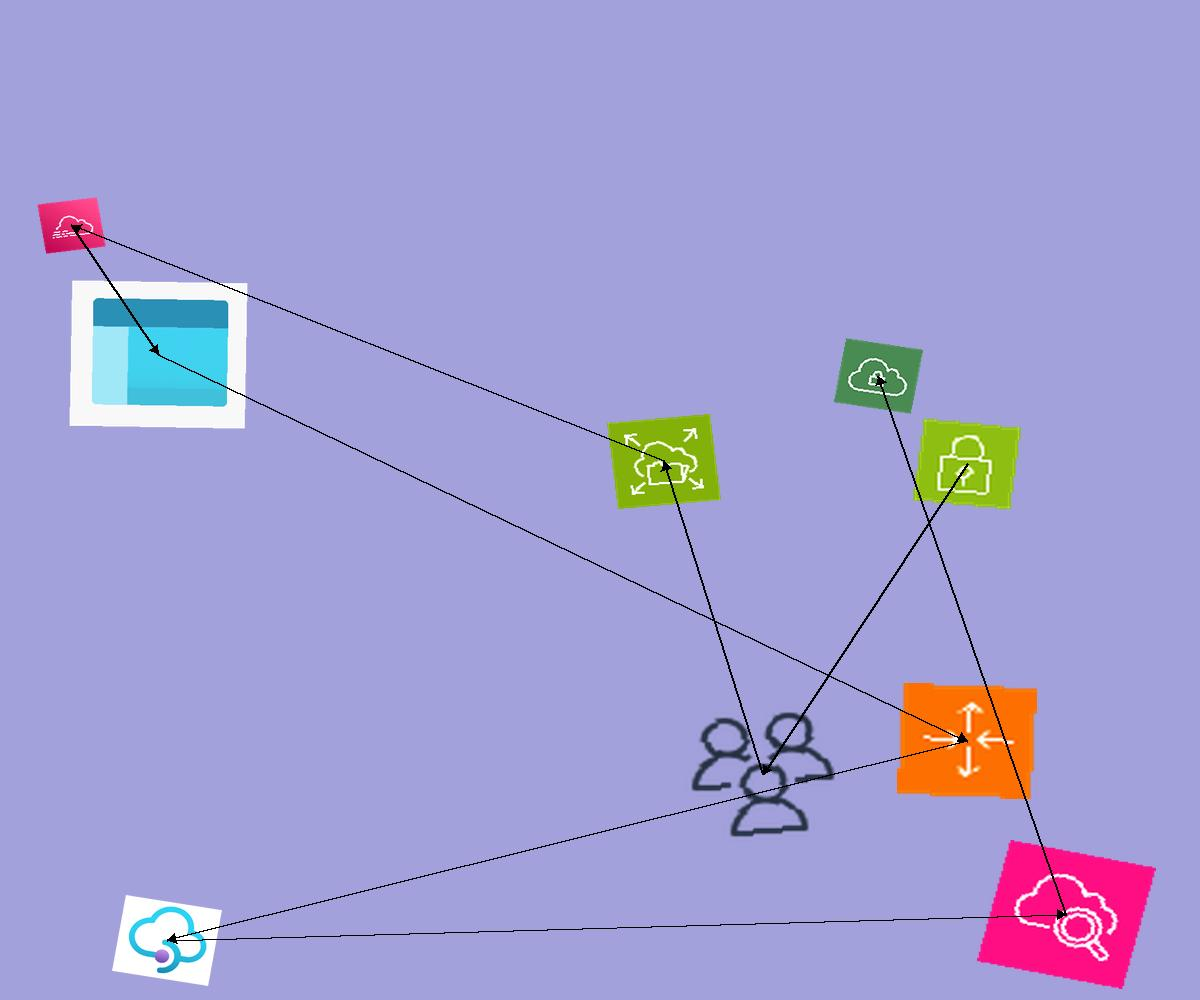AWS-CloudTrail: (37, 197, 106, 254)
AWS-CloudWatch: (977, 840, 1156, 989)
AWS-EFS: (606, 413, 722, 510)
AWS-Private_vpc: (833, 338, 924, 414)
AWS-Public-subnet: (911, 417, 1023, 511)
AWS-Res_Users: (676, 702, 850, 847)
AWS-Scaling-group: (897, 683, 1037, 799)
Azure_api_gateway: (112, 895, 222, 986)
Azure_management-portal: (69, 280, 248, 429)
